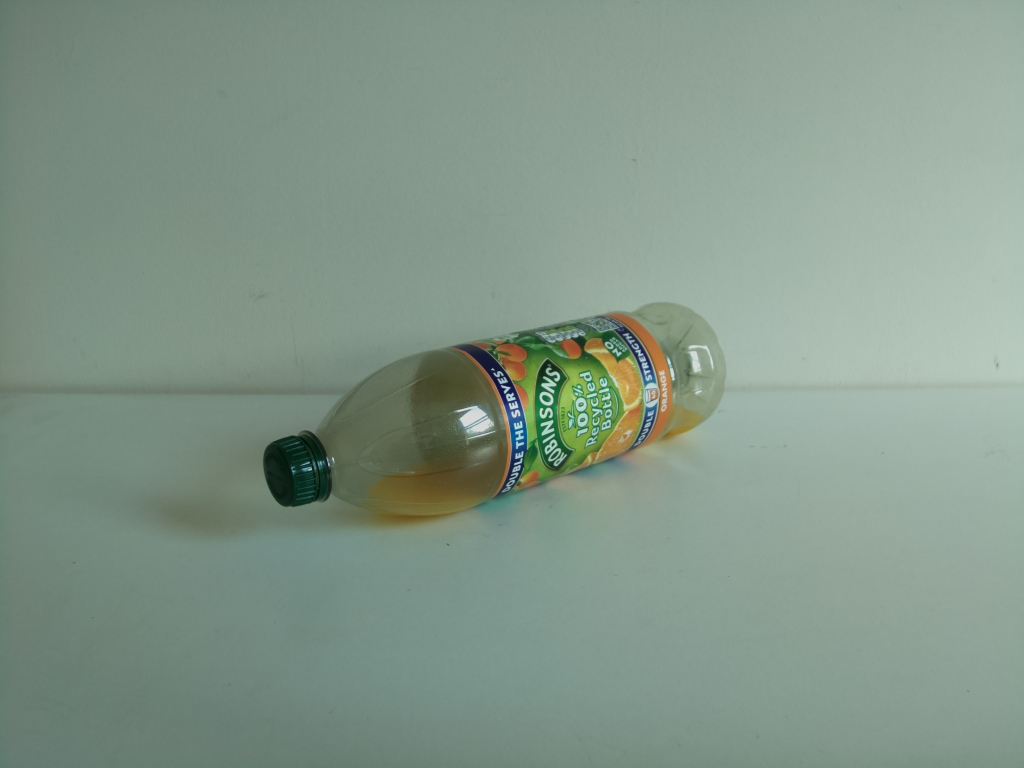juice: (256, 294, 733, 524)
